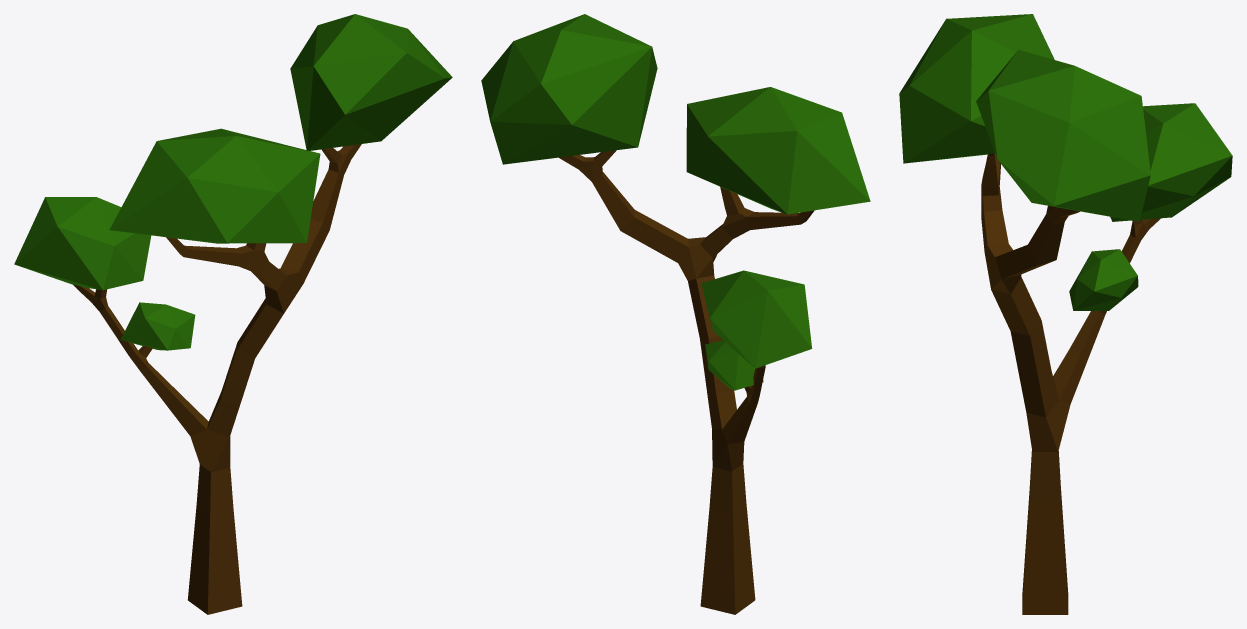
Rendered from OakTree1.fbx.
3 views of the same model, side by side, from view 1: azimuth 30°, elevation 25°; view 2: azimuth 150°, elevation 25°; view 3: azimuth 270°, elevation 25° (orthographic). The views are drawn at different scales.
Parts seen in each view (by area): view 1: OakTree1; view 2: OakTree1; view 3: OakTree1.
Part boxes in pixels (<box>): OakTree1: <box>14,14,452,614</box>; OakTree1: <box>481,14,870,614</box>; OakTree1: <box>899,14,1232,614</box>.
Bounding box in the file's own units: 4.47 × 6.03 × 2.91.
